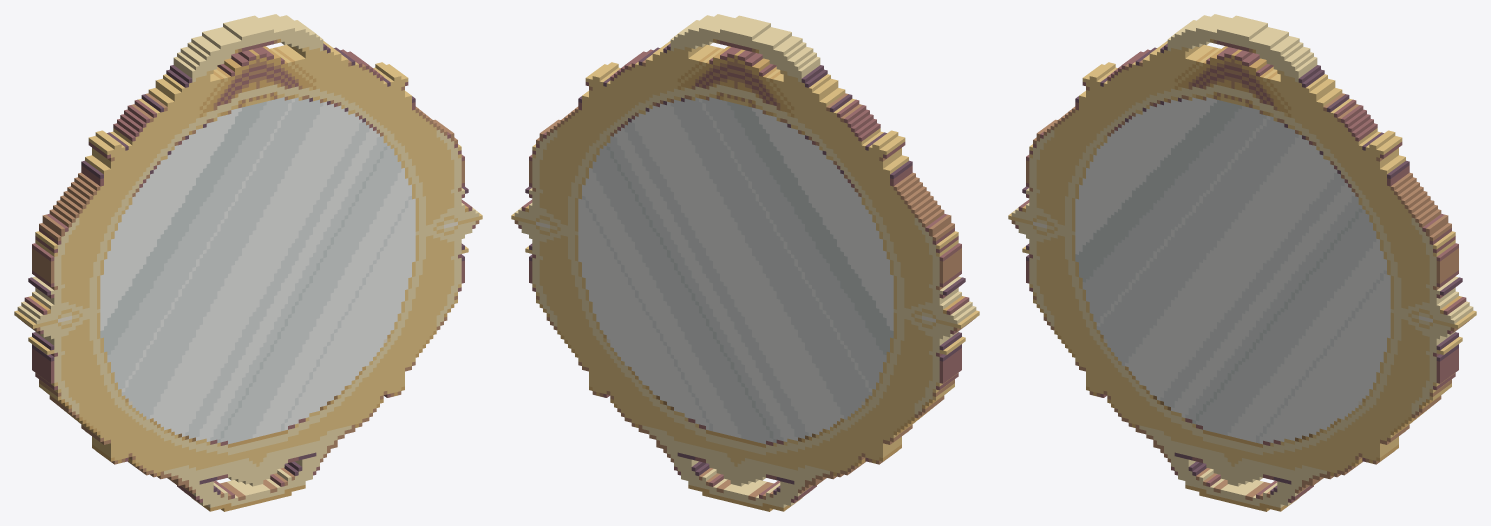
Rendered from mirror.fbx.
3 renders of one model, left to right at view 1: azimuth 30°, elevation 25°; view 2: azimuth 150°, elevation 25°; view 3: azimuth 330°, elevation 25°, orthographic.
Visible parts, largest first — view 1: mirror.png; view 2: mirror.png; view 3: mirror.png.
Boxes of the visible parts, x1,y1,x2,y2 form: mirror.png: (14,14,482,511); mirror.png: (511,14,979,511); mirror.png: (1008,14,1476,511).
Bounding box in the file's own units: 68.53 × 68.53 × 5.
